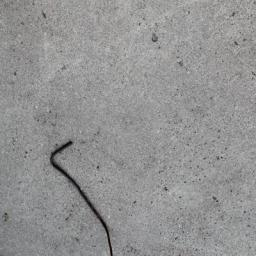FOD: (51, 141, 119, 256)
